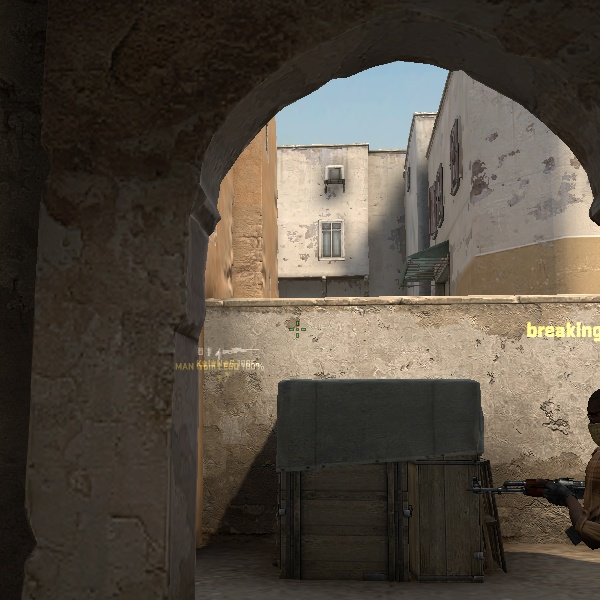t_body: (546, 370, 599, 555)
t_head: (586, 387, 600, 445)
